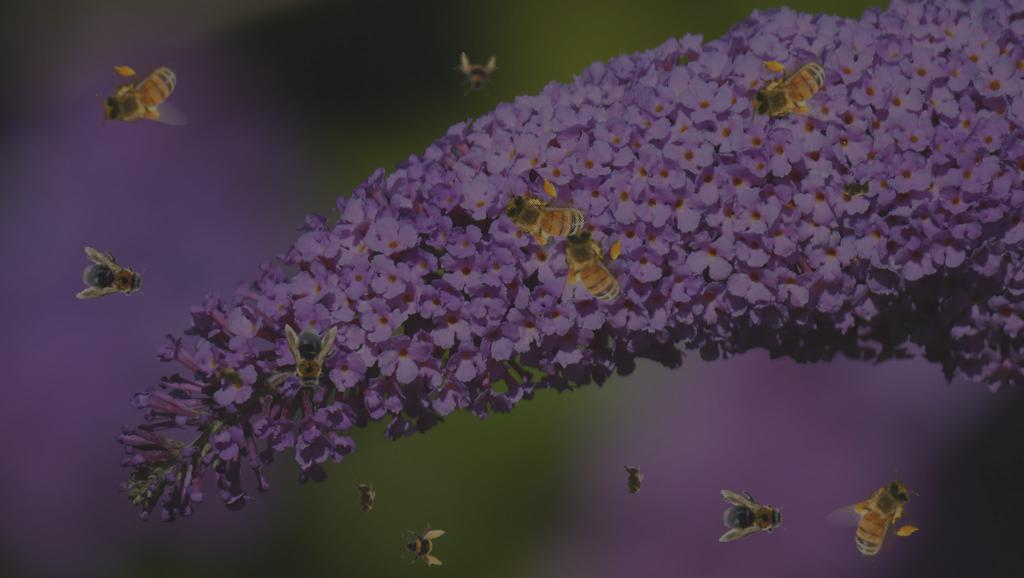Bee: (488, 162, 604, 275), (821, 465, 937, 572), (745, 57, 838, 125), (96, 62, 189, 130), (557, 221, 625, 314), (75, 246, 151, 308), (285, 324, 337, 392), (719, 490, 787, 542), (454, 52, 498, 96), (401, 523, 445, 567), (208, 360, 254, 396), (353, 478, 377, 520), (622, 461, 644, 501), (836, 177, 876, 199)
